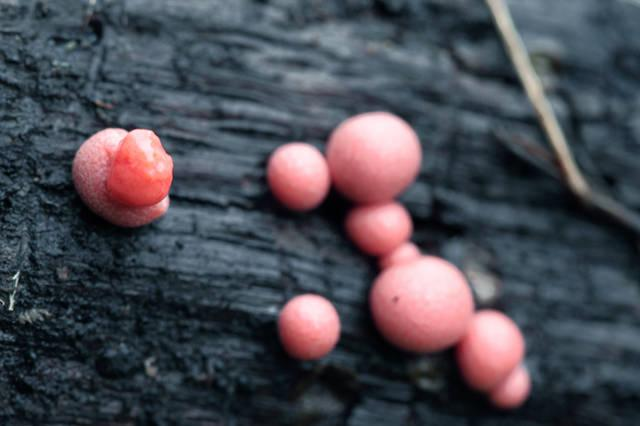poisonous_mushroom: (70, 125, 174, 228), (368, 254, 474, 352), (325, 109, 422, 203), (456, 308, 524, 392), (265, 140, 331, 210), (276, 292, 341, 360)
